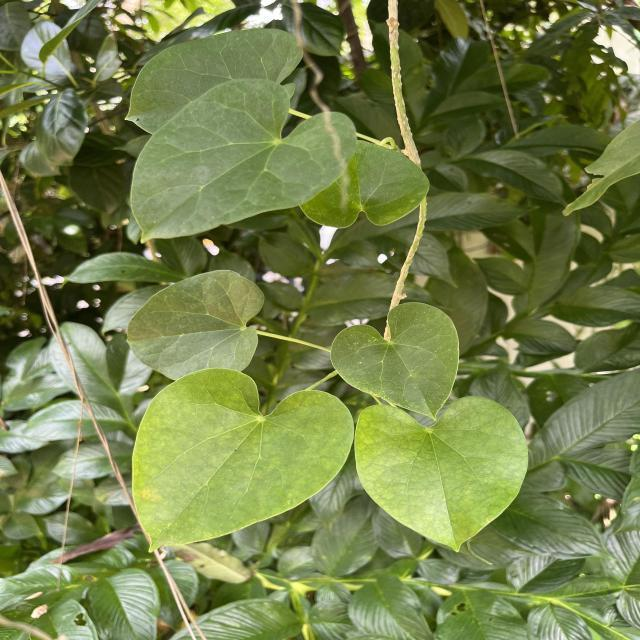Tinospora cordifolia: (130, 365, 356, 555), (352, 392, 532, 555), (328, 298, 464, 424), (122, 266, 268, 382)
